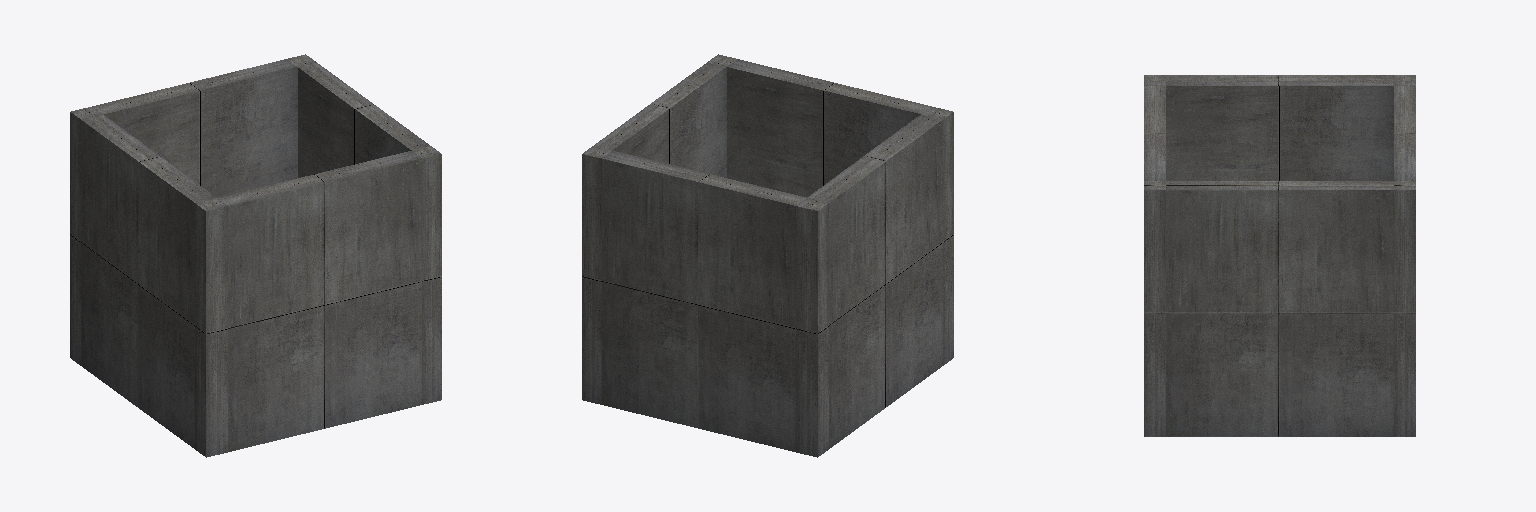
The picture shows the model from 3 angles: view 1: azimuth 30°, elevation 25°; view 2: azimuth 150°, elevation 25°; view 3: azimuth 270°, elevation 25°; orthographic projection.
Parts seen in each view (by area): view 1: Cube_Cube.001; view 2: Cube_Cube.001; view 3: Cube_Cube.001.
Part boxes in pixels (x1,y1,x2,y2): Cube_Cube.001: (70,54,441,457); Cube_Cube.001: (582,54,953,457); Cube_Cube.001: (1144,75,1415,436).
Size of the model in its own units: 2 by 2 by 2.
1 materials, 1 textured.